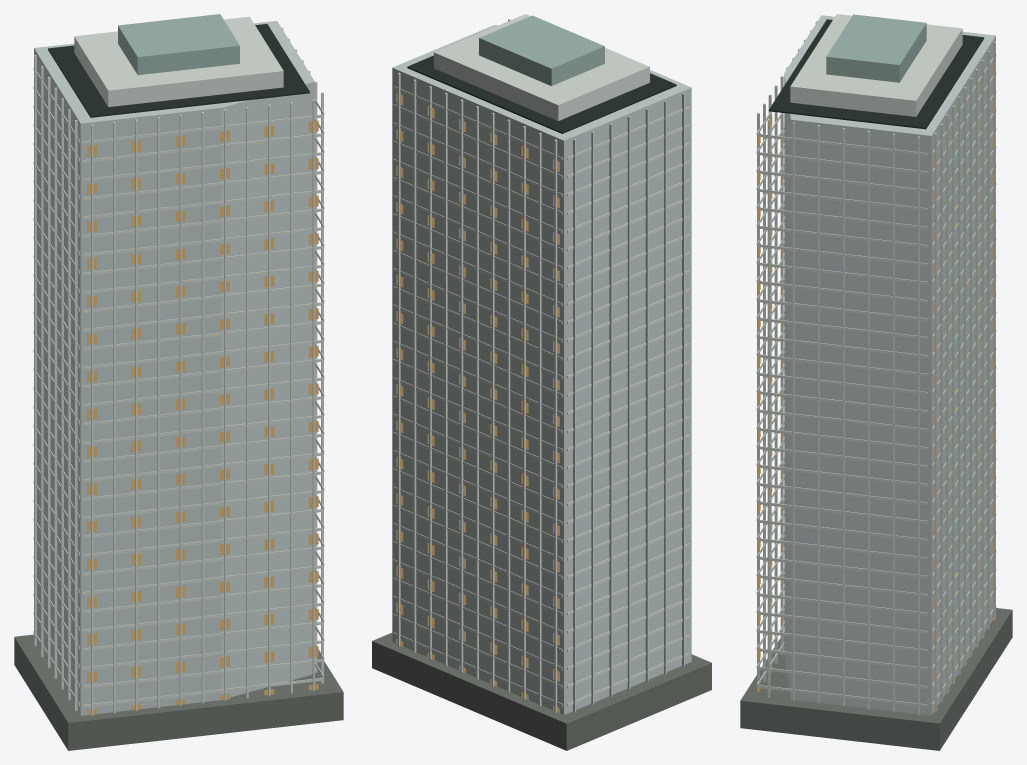
The model's file is excellence-houhai.glb.
3 renders of one model, left to right at view 1: azimuth 30°, elevation 25°; view 2: azimuth 150°, elevation 25°; view 3: azimuth 270°, elevation 25°, orthographic. The views are drawn at different scales.
Parts seen in each view (by area): view 1: envelope, fins, floor_bands, podium, night_windows, crown_step, crown_screen, roof_deck; view 2: envelope, fins, floor_bands, podium, crown_step, crown_screen, night_windows, roof_deck; view 3: envelope, fins, floor_bands, podium, crown_step, crown_screen, roof_deck, night_windows.
Part boxes in pixels (box(x1,y1,x2,y2)): envelope: box(34, 21, 314, 715); fins: box(34, 27, 323, 715); floor_bands: box(33, 68, 324, 707); podium: box(14, 634, 343, 750); night_windows: box(87, 120, 318, 715); crown_step: box(74, 16, 283, 106); crown_screen: box(118, 14, 239, 75); roof_deck: box(48, 24, 309, 117); envelope: box(392, 25, 691, 714); fins: box(397, 19, 684, 712); floor_bands: box(393, 86, 689, 706); podium: box(372, 633, 711, 750); crown_step: box(434, 14, 649, 120); crown_screen: box(479, 15, 604, 85); night_windows: box(396, 92, 559, 713); roof_deck: box(407, 55, 676, 133); envelope: box(784, 15, 995, 715); fins: box(757, 21, 995, 715); floor_bands: box(756, 54, 996, 707); podium: box(740, 608, 1012, 750); crown_step: box(790, 14, 962, 116); crown_screen: box(826, 14, 926, 82); roof_deck: box(768, 19, 984, 129); night_windows: box(758, 63, 993, 712).
Bounding box in the file's own units: 101 × 222 × 85.07.
